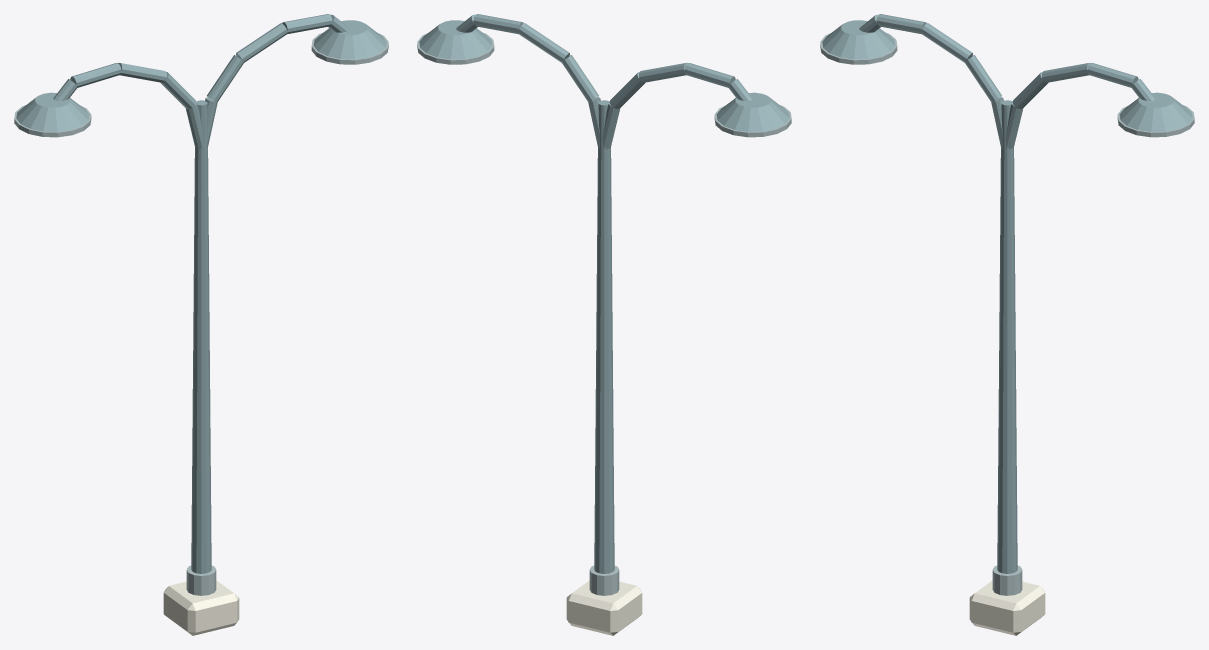
File: streetlamp.glb
3 renders of one model, left to right at view 1: azimuth 30°, elevation 25°; view 2: azimuth 150°, elevation 25°; view 3: azimuth 330°, elevation 25°, orthographic.
Parts seen in each view (by area): view 1: Streetlamp_Pole; view 2: Streetlamp_Pole; view 3: Streetlamp_Pole.
Part boxes in pixels (bbox=[...]): Streetlamp_Pole: bbox=[14, 14, 388, 635]; Streetlamp_Pole: bbox=[417, 14, 791, 635]; Streetlamp_Pole: bbox=[820, 14, 1194, 635].
Size of the model in its own units: 4.22 by 6.4 by 0.78.
